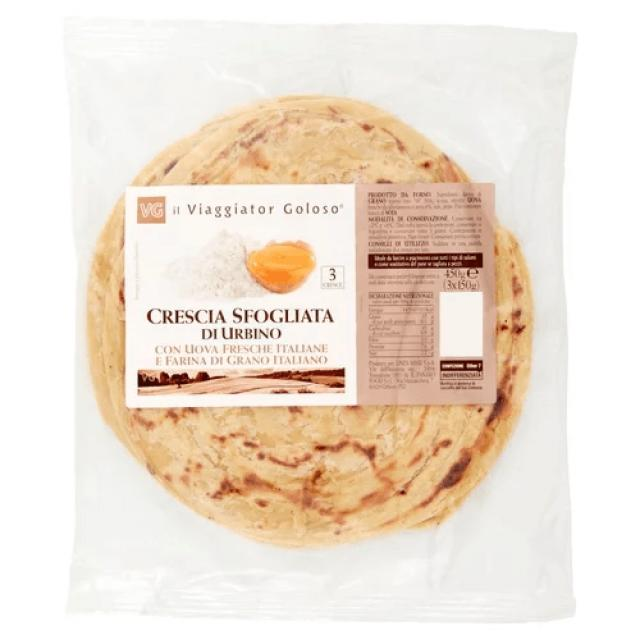bread: (63, 17, 579, 626)
